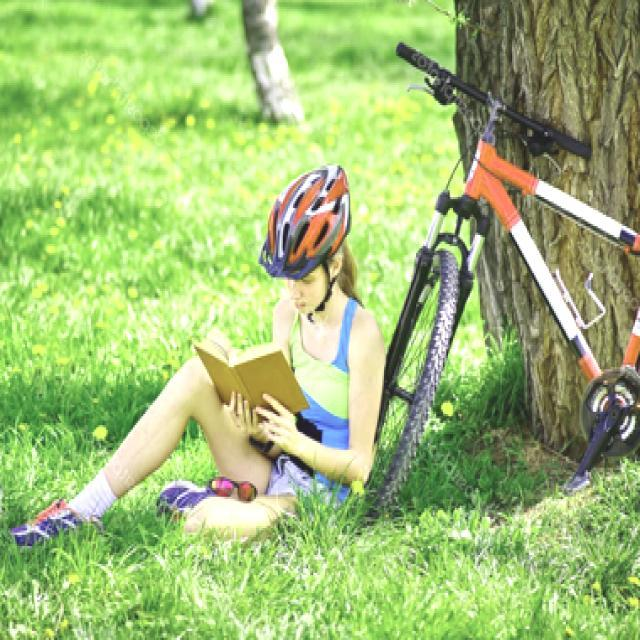Helmet: (254, 157, 357, 320)
